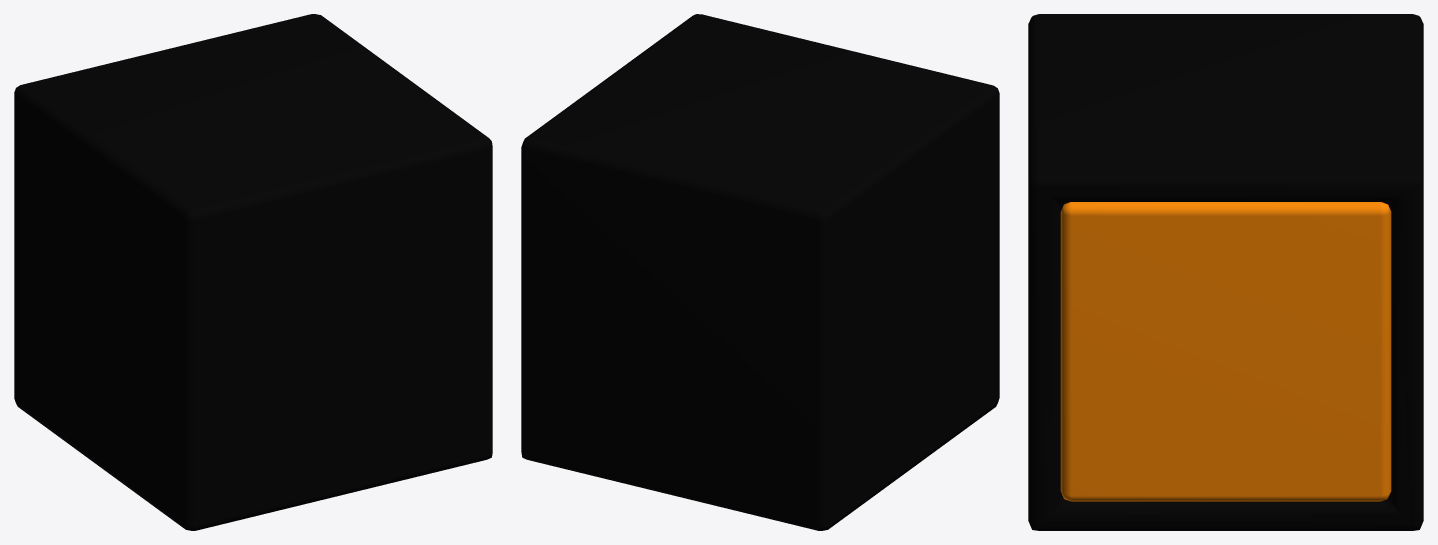
3 renders of one model, left to right at view 1: azimuth 30°, elevation 25°; view 2: azimuth 150°, elevation 25°; view 3: azimuth 270°, elevation 25°, orthographic. The views are drawn at different scales.
Parts seen in each view (by area): view 1: Cube.012; view 2: Cube.012; view 3: Cube.012.
Part boxes in pixels (<box>): Cube.012: <box>14,14,492,530</box>; Cube.012: <box>521,14,999,530</box>; Cube.012: <box>1028,14,1423,530</box>.
Bounding box in the file's own units: 2 × 2 × 2.
